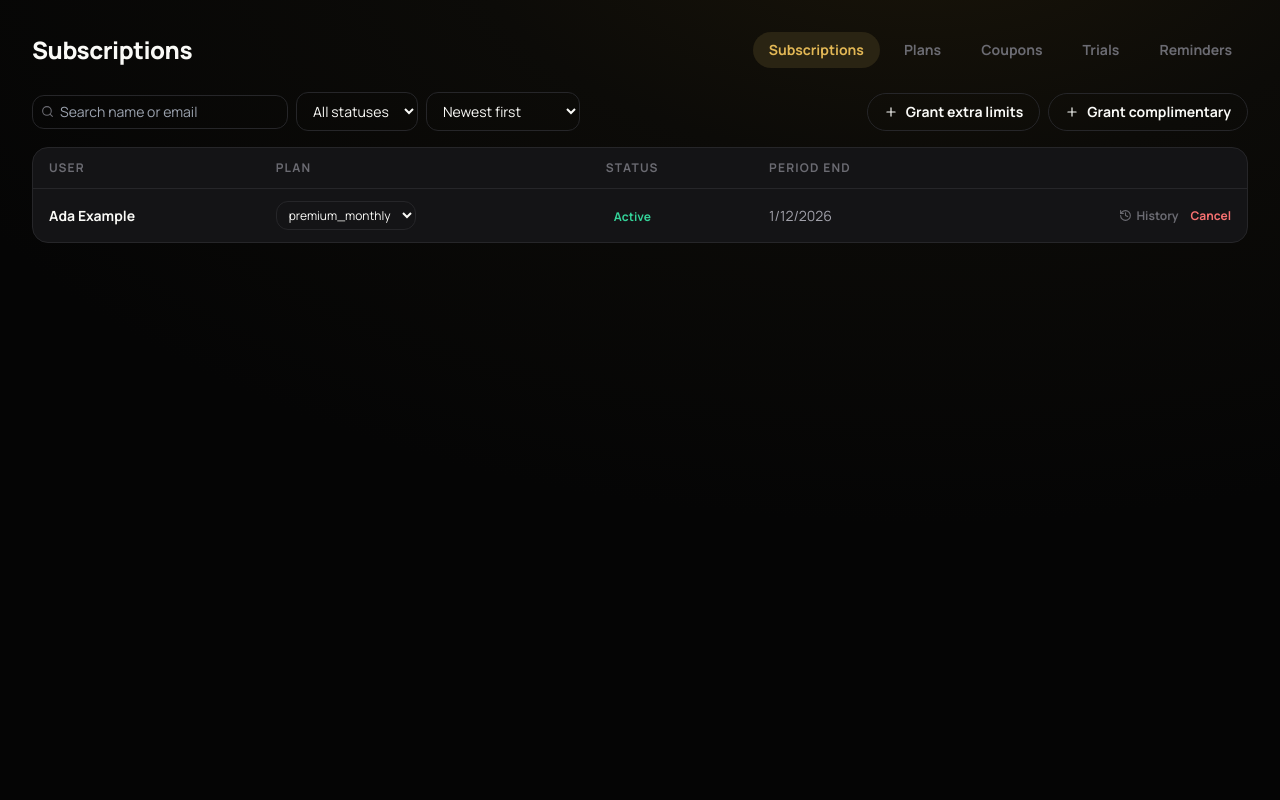
Scenario: Subscriptions (admin) › renewal reminder settings › shows the current thresholds and message templates, and the Save button stays disabled until something changes
The width and height of the screenshot is (1280, 800).
expect the table with test id "admin-subscriptions-table" is shown: met, box [33, 148, 1247, 242]
Click the button with test id "admin-subscriptions-tab-reminders" at point(1196, 50), box [1143, 32, 1248, 68]
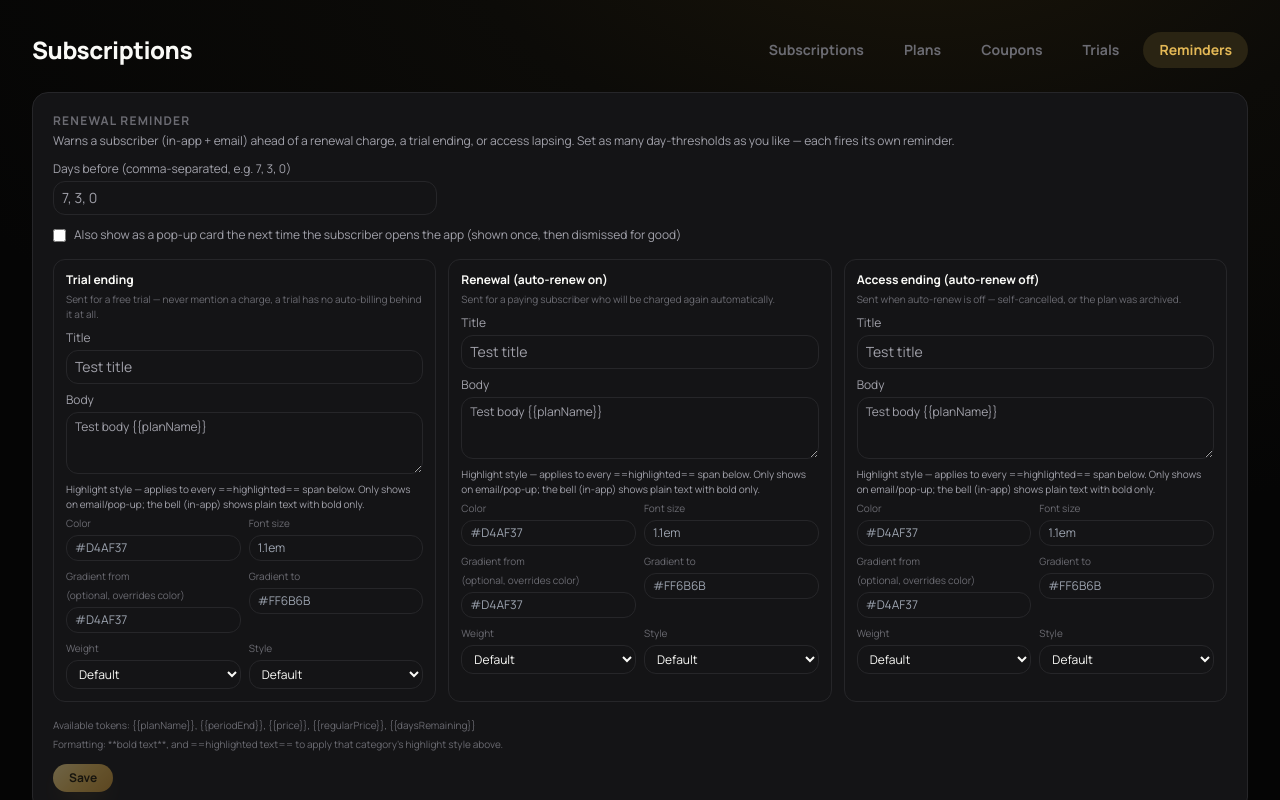
expect the field with test id "admin-renewal-reminder-days-input" holds "7, 3, 0": met, box [53, 181, 437, 215]
expect the field with test id "admin-renewal-reminder-trialEnding-title-input" holds "Test title": met, box [66, 350, 423, 384]
expect the button with test id "admin-renewal-reminder-save-btn" is disabled: met, box [53, 764, 113, 792]
